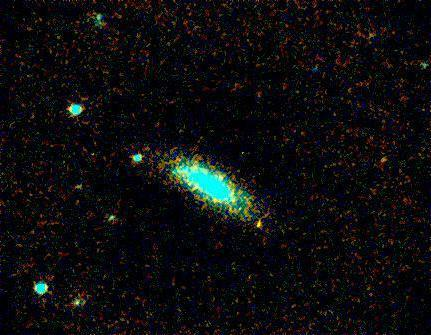star: (369, 144, 399, 174)
